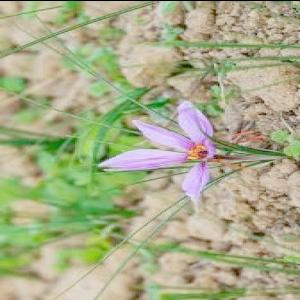Saffron: (95, 102, 215, 204)
